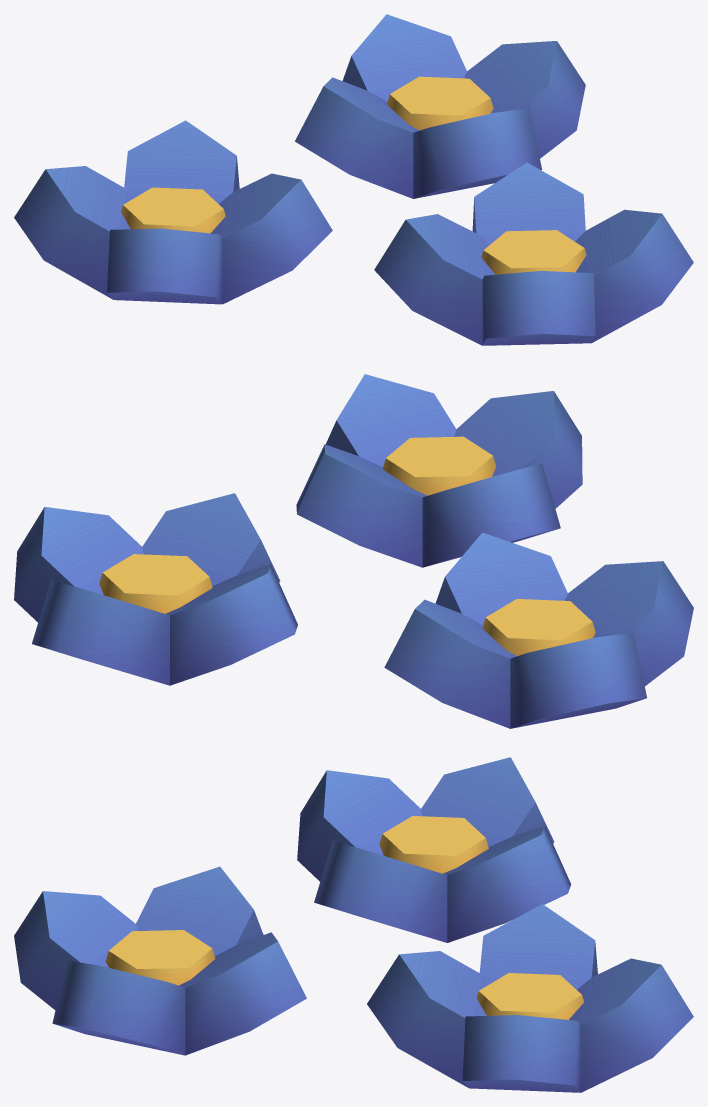
The model's file is flowers.glb.
The picture shows the model from 3 angles, top to bottom: view 1: azimuth 30°, elevation 25°; view 2: azimuth 150°, elevation 25°; view 3: azimuth 270°, elevation 25°; orthographic projection. The views are drawn at different scales.
Parts seen in each view (by area): view 1: flowers; view 2: flowers; view 3: flowers.
Boxes of the visible parts, box(x1,y1,x2,y2) form: flowers: box(14, 14, 693, 345); flowers: box(14, 374, 693, 728); flowers: box(14, 757, 693, 1092).
Size of the model in its own units: 0.7766 by 0.137 by 0.7857.
1 material, 1 textured.
